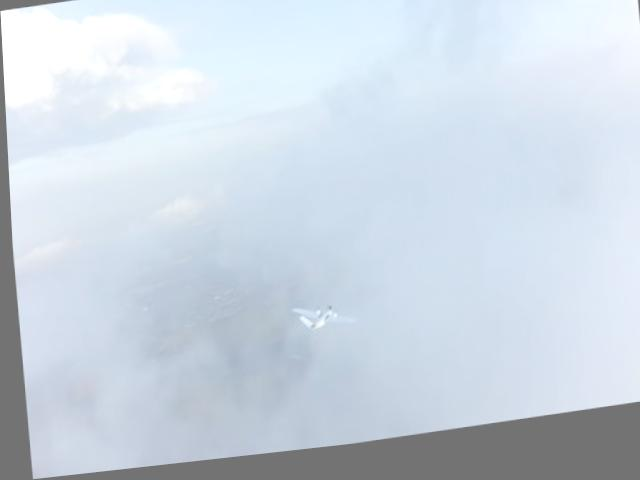uav: (288, 302, 354, 341)
